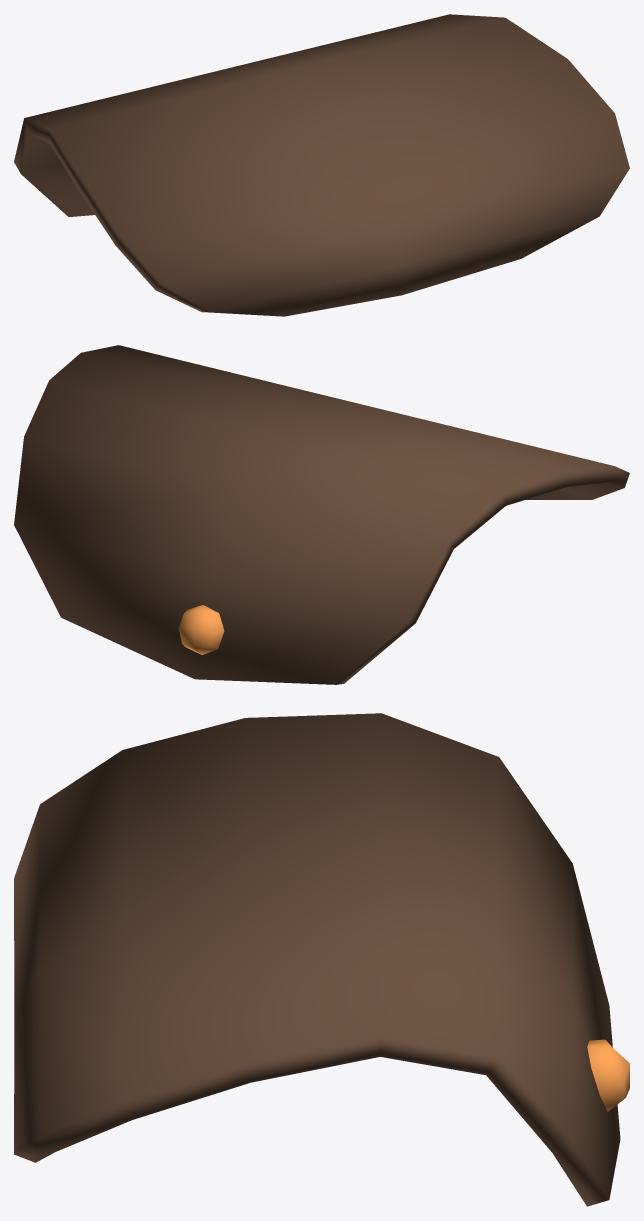
File: player2backpackflap.fbx
3 renders of one model, top to bottom at view 1: azimuth 30°, elevation 25°; view 2: azimuth 150°, elevation 25°; view 3: azimuth 270°, elevation 25°, orthographic. The views are drawn at different scales.
Visible parts, largest first — view 1: flap.001; view 2: flap.001; view 3: flap.001.
Part boxes in pixels (bbox=[...]): flap.001: bbox=[14, 14, 629, 316]; flap.001: bbox=[14, 345, 629, 684]; flap.001: bbox=[14, 713, 629, 1206].
Bounding box in the file's own units: 31.21 × 11.27 × 23.16.
